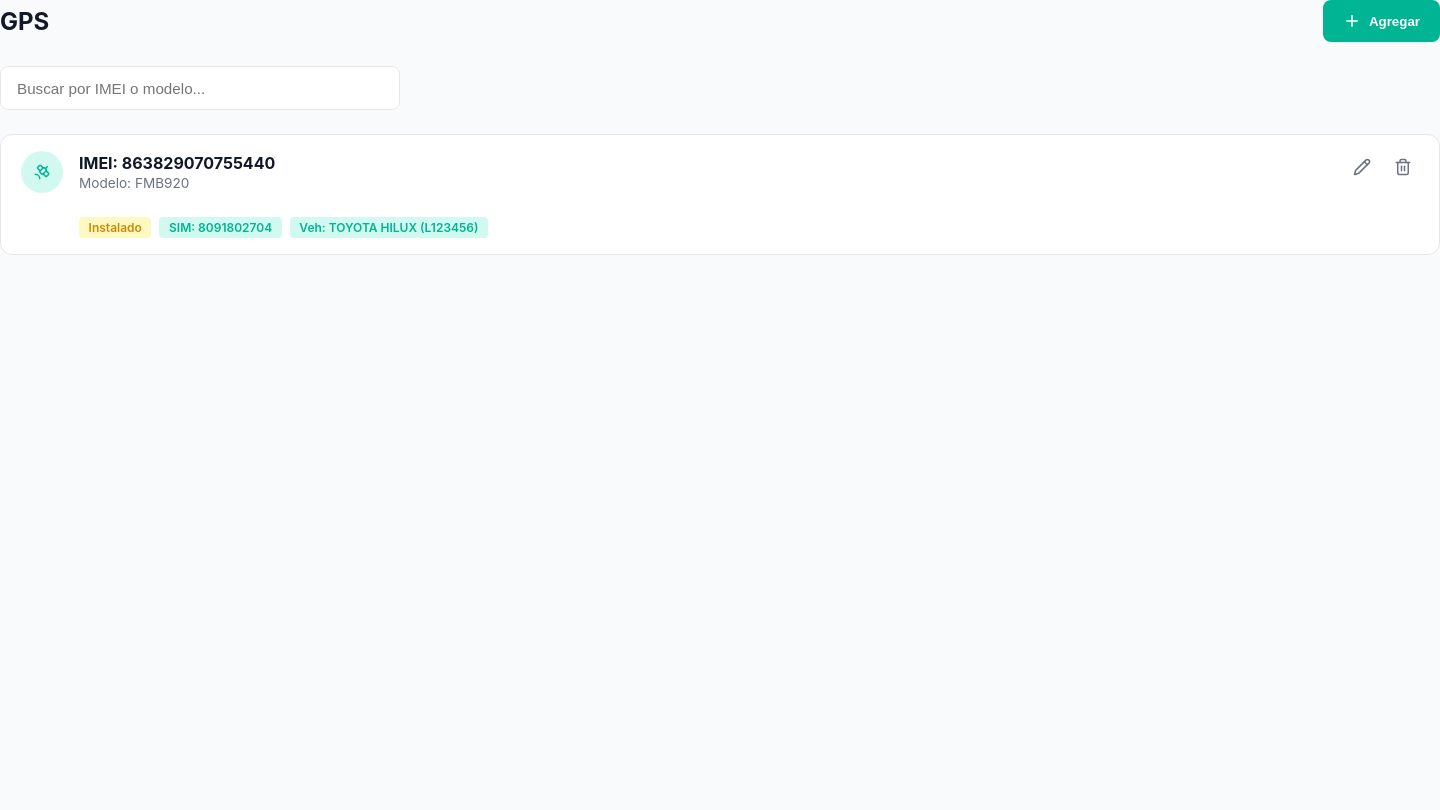
GPS: muestra simcard y vehículo activos y avisa que se retirará al cambiar de estado
Expected: the text "SIM: 8091802704" is shown, [160,217,282,238]
Expected: the text "Veh: TOYOTA HILUX (L123456)" is shown, [290,217,488,238]
Click the button named "Editar GPS".
click(1362, 169)  # box [1345,151,1378,187]
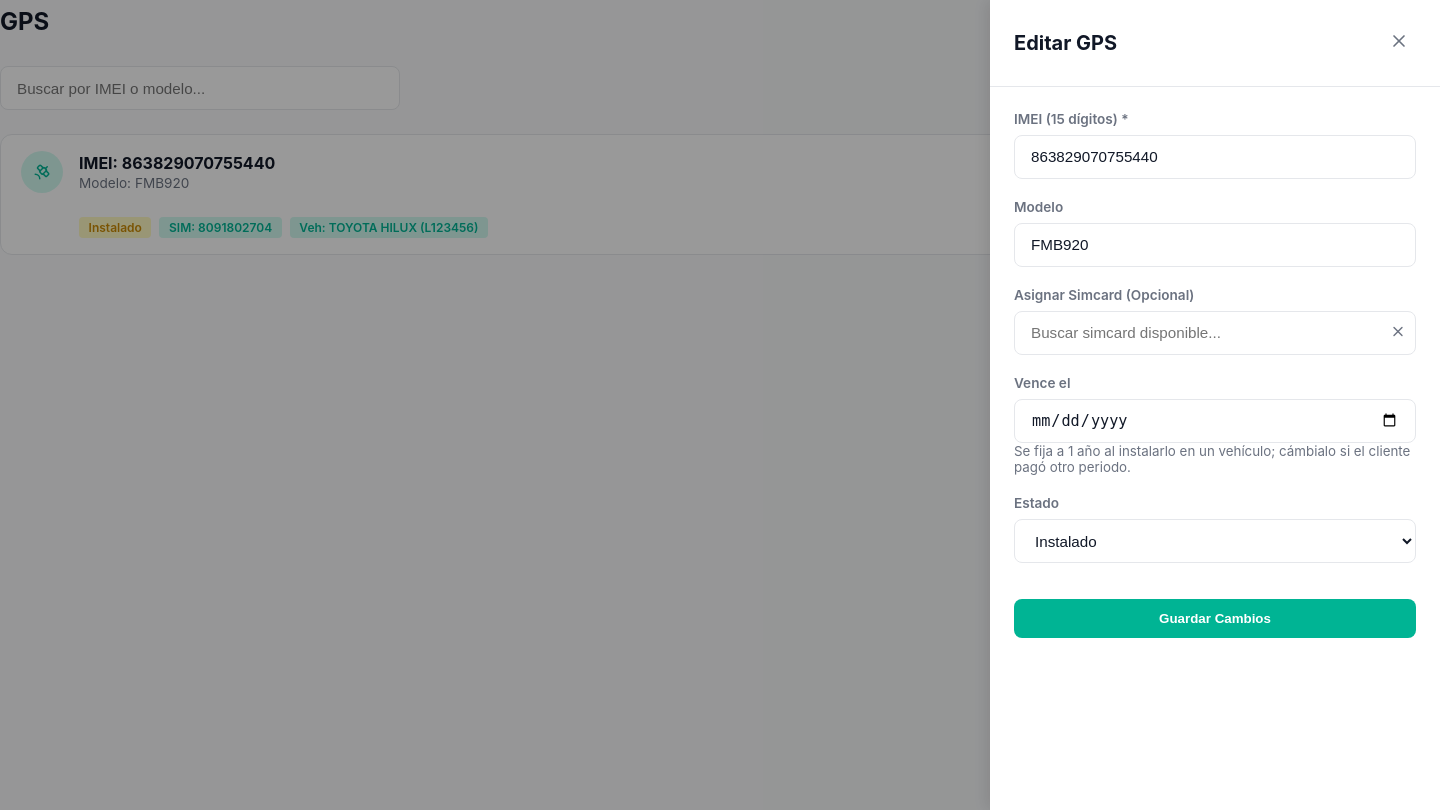
Select "Dañado" in the dropdown labelled "Estado" at (1215, 541), box [1014,519,1416,563]
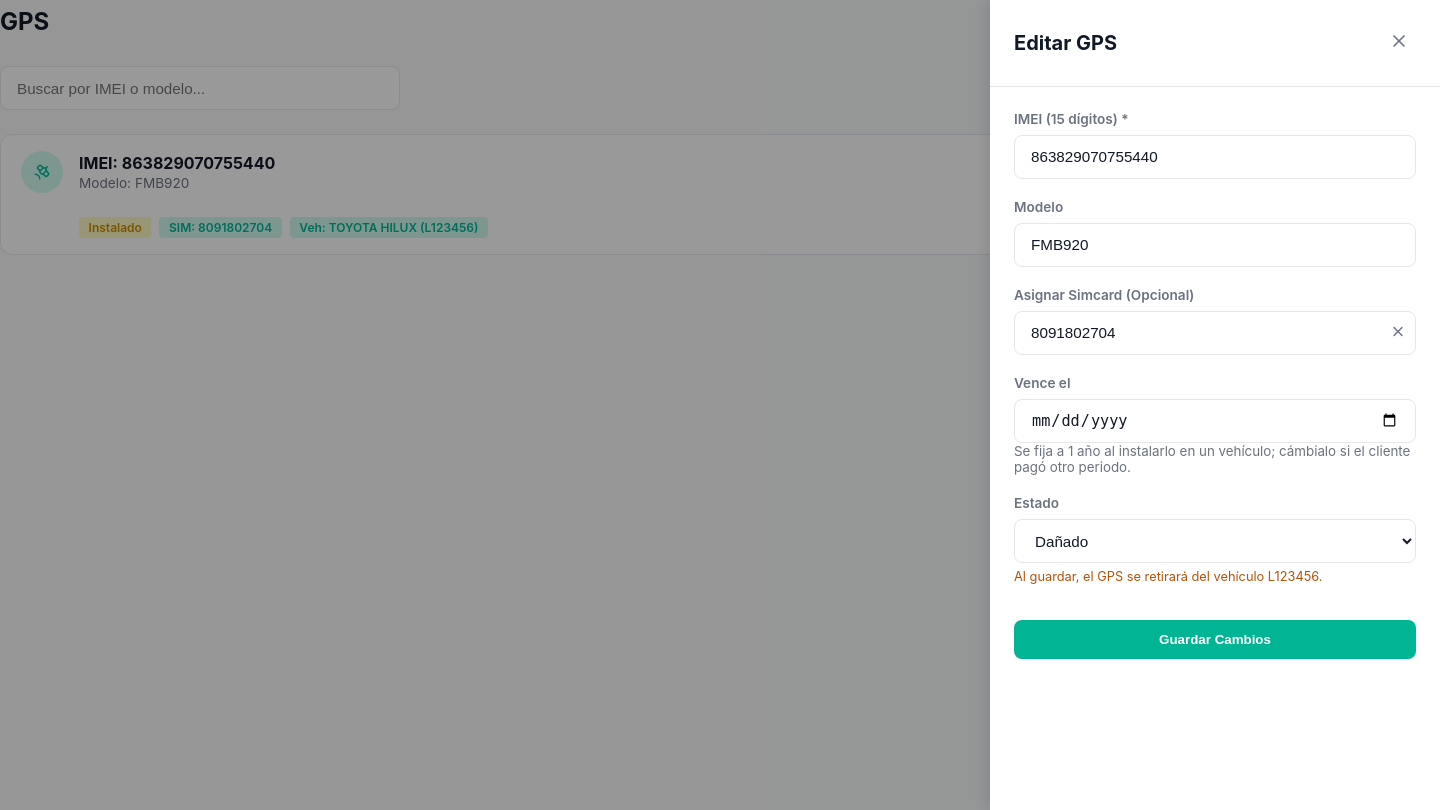
Expected: the text "Al guardar, el GPS se retirará del vehículo L123456." is shown, [1014,569,1322,584]
